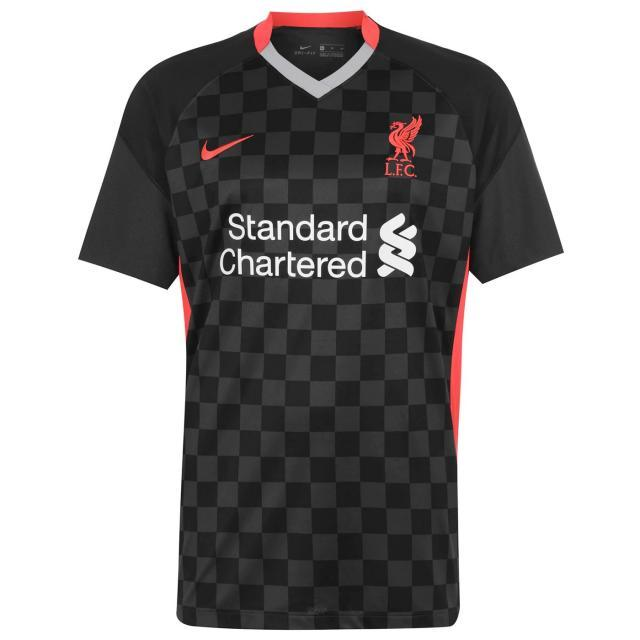Nike: (202, 134, 251, 158)
Standard Chartered: (222, 208, 421, 280)
